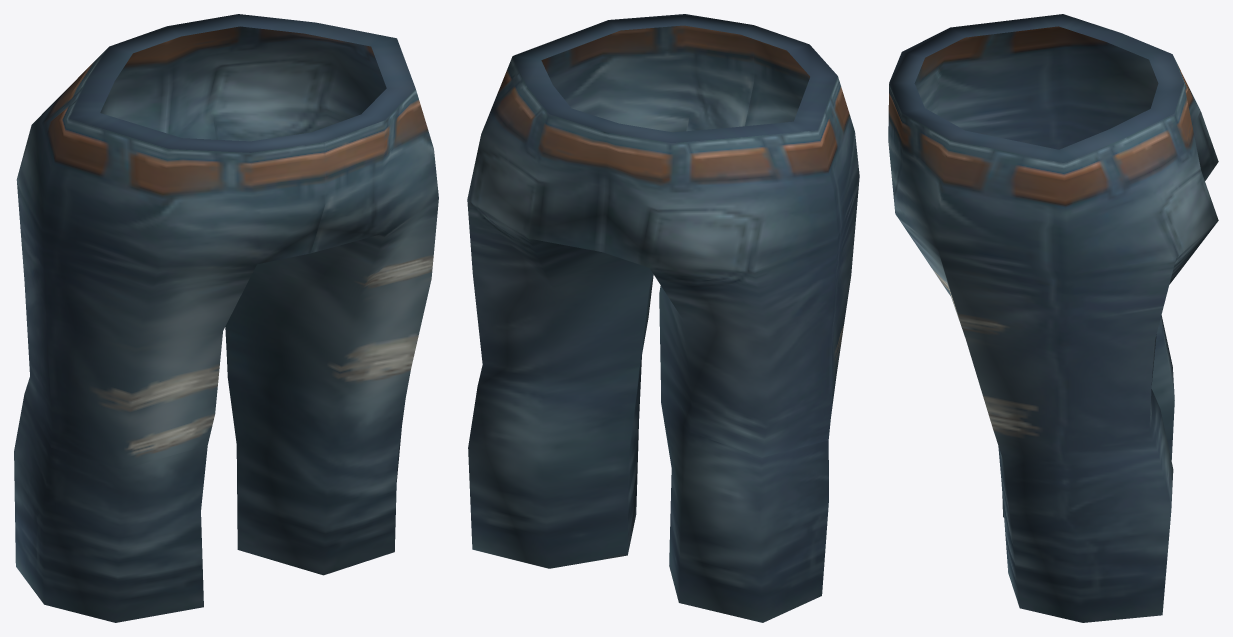
Rendered from AF_M_Trousers_G_02.fbx.
The picture shows the model from 3 angles, left to right: view 1: azimuth 30°, elevation 25°; view 2: azimuth 150°, elevation 25°; view 3: azimuth 270°, elevation 25°; orthographic projection. The views are drawn at different scales.
Visible parts, largest first — view 1: AF_M_Trousers_G_02; view 2: AF_M_Trousers_G_02; view 3: AF_M_Trousers_G_02.
Boxes of the visible parts, <box> form: AF_M_Trousers_G_02: <box>14,14,438,622</box>; AF_M_Trousers_G_02: <box>467,14,859,622</box>; AF_M_Trousers_G_02: <box>888,14,1218,622</box>.
Bounding box in the file's own units: 350 × 447 × 289.
